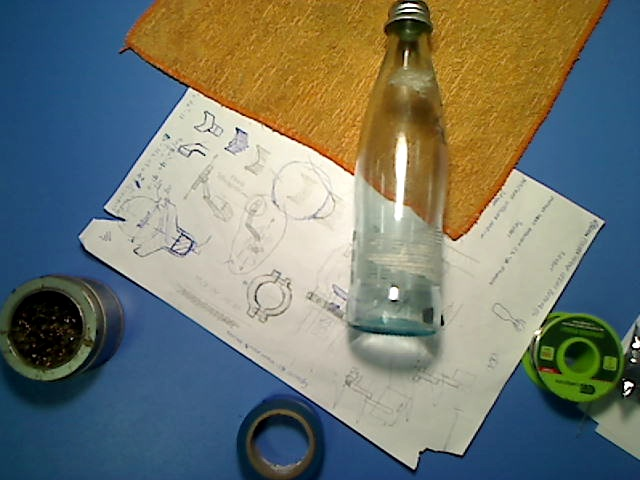bottle: (345, 1, 452, 338)
